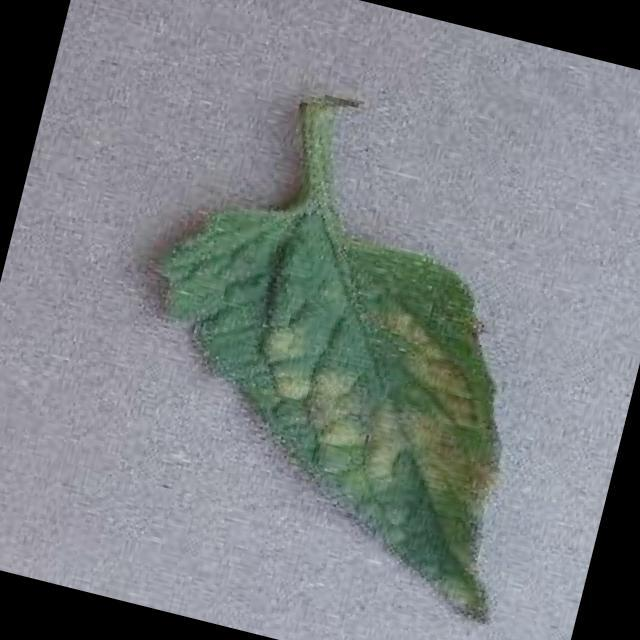Tomato mold leaf: (89, 186, 571, 631)
